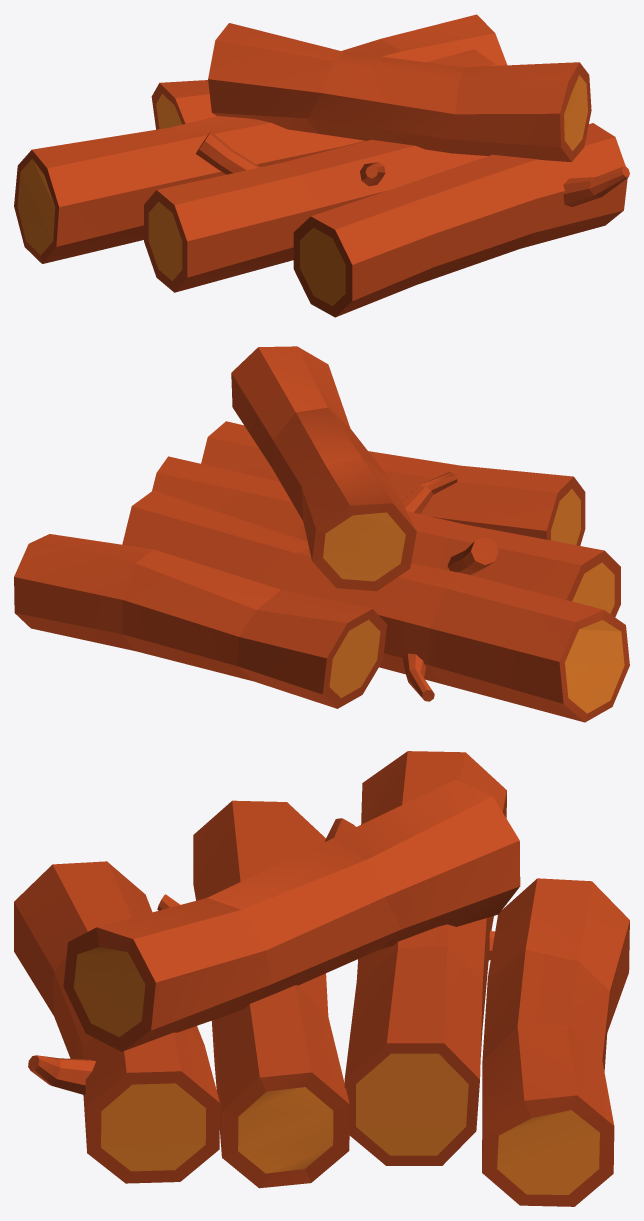
File: winter_castle_item22.glb
3 views of the same model, one above another, from view 1: azimuth 30°, elevation 25°; view 2: azimuth 150°, elevation 25°; view 3: azimuth 270°, elevation 25° (orthographic). The views are drawn at different scales.
Visible parts, largest first — view 1: Item22_Medieval_0; view 2: Item22_Medieval_0; view 3: Item22_Medieval_0.
Part boxes in pixels (bbox=[...]): Item22_Medieval_0: bbox=[14, 14, 629, 317]; Item22_Medieval_0: bbox=[14, 346, 629, 722]; Item22_Medieval_0: bbox=[14, 751, 629, 1206].
Bounding box in the file's own units: 0.7131 × 0.2275 × 0.5546.
1 material, 1 textured.
